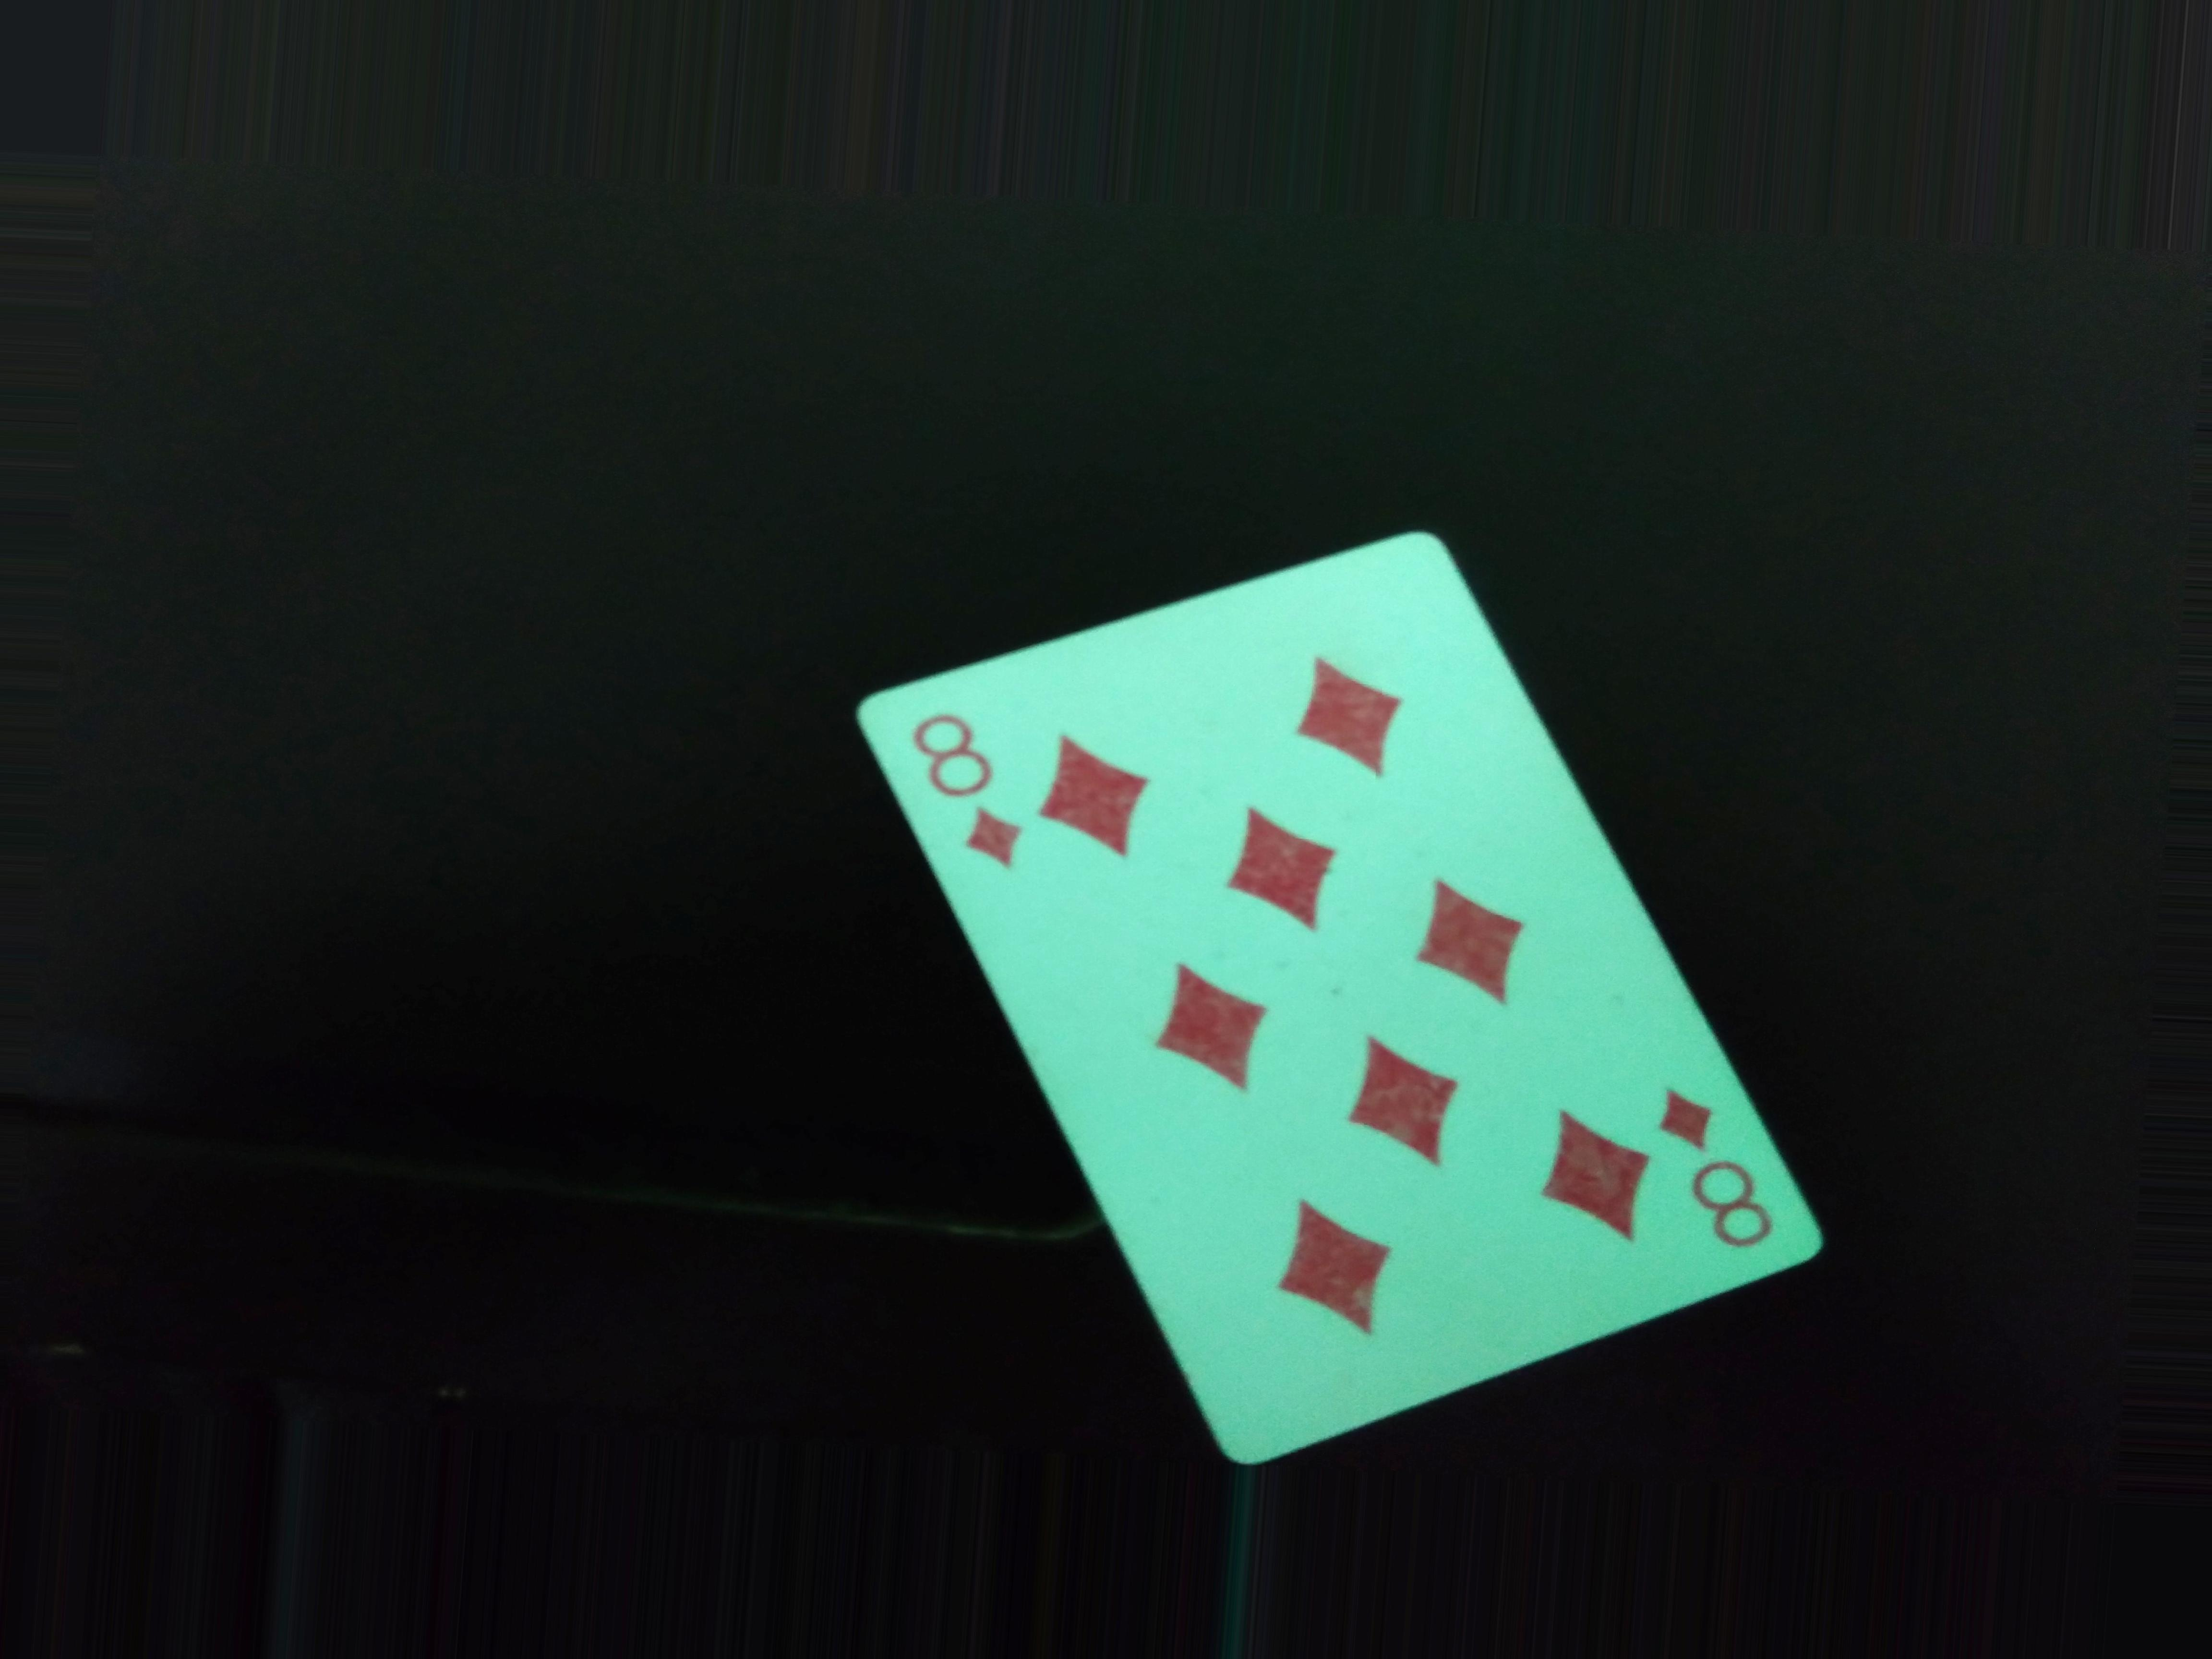8D: (892, 704, 1045, 924)
